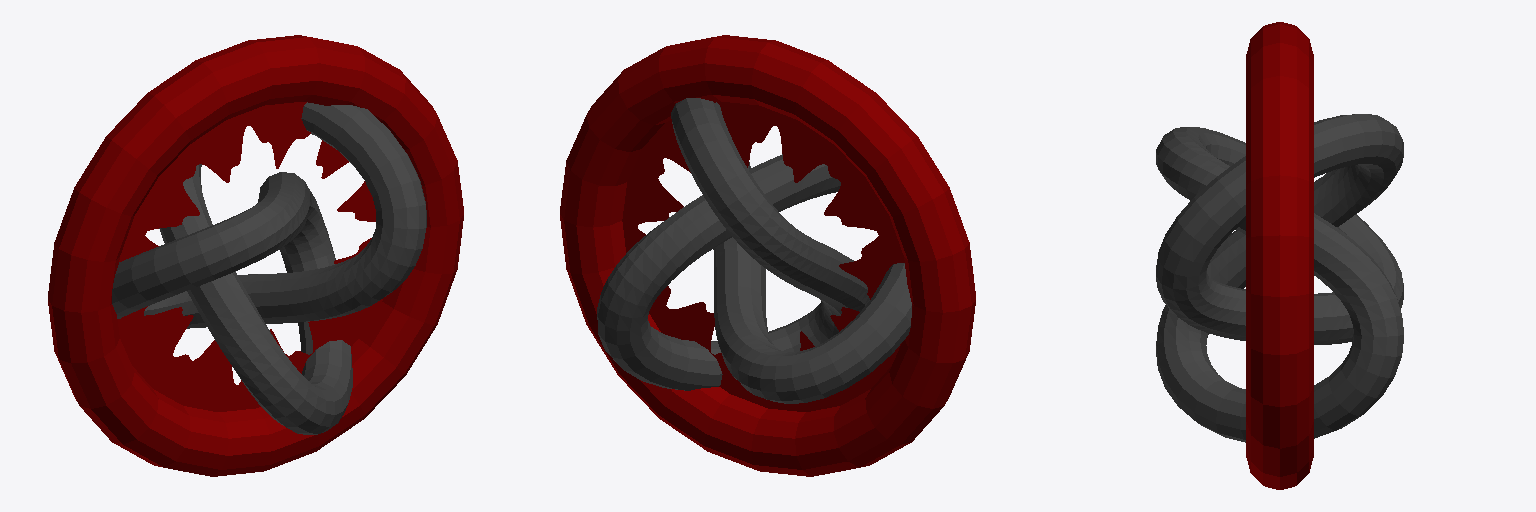
Rendered from destroyed.obj.
3 views of the same model, side by side, from view 1: azimuth 30°, elevation 25°; view 2: azimuth 150°, elevation 25°; view 3: azimuth 270°, elevation 25° (orthographic).
Visible parts, largest first — view 1: Torus001, Torus_Knot001, RingWave001; view 2: Torus001, Torus_Knot001, RingWave001; view 3: Torus_Knot001, Torus001.
Boxes of the visible parts, x1=… form: Torus001: x1=48, y1=35, x2=463, y2=476; Torus_Knot001: x1=112, y1=102, x2=426, y2=434; RingWave001: x1=118, y1=102, x2=382, y2=411; Torus001: x1=560, y1=35, x2=975, y2=476; Torus_Knot001: x1=597, y1=98, x2=911, y2=403; RingWave001: x1=622, y1=102, x2=904, y2=411; Torus_Knot001: x1=1156, y1=114, x2=1403, y2=442; Torus001: x1=1246, y1=22, x2=1313, y2=489.
Bounding box in the file's own units: 7 × 7 × 3.7.